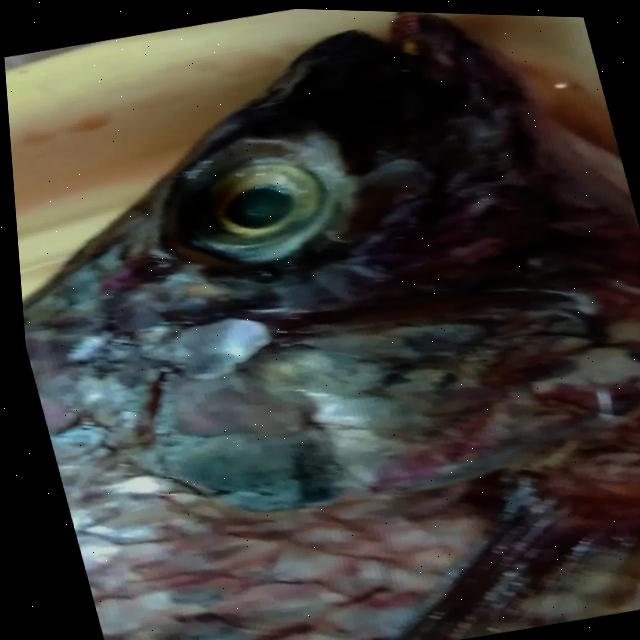Non-Fresh: (12, 206, 640, 640), (136, 121, 360, 286)
